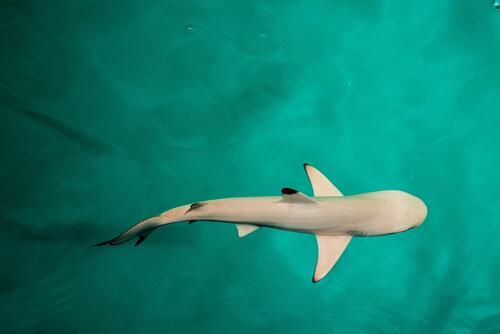shark: (90, 163, 429, 283)
